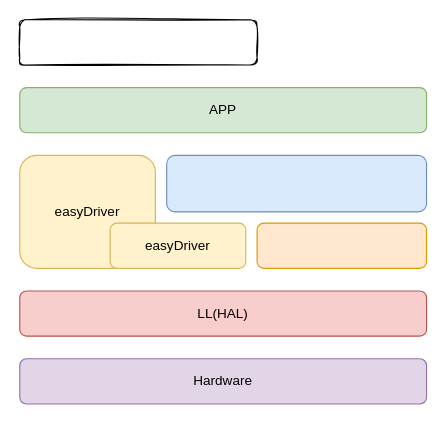
This 446x424 diagram has some shape labels left out. Here are the shapes that lost their labels. From the top down, the centre of each, then its label:
[138,42]: 系统层次框图
[296,183]: Device
[341,245]: Driver
